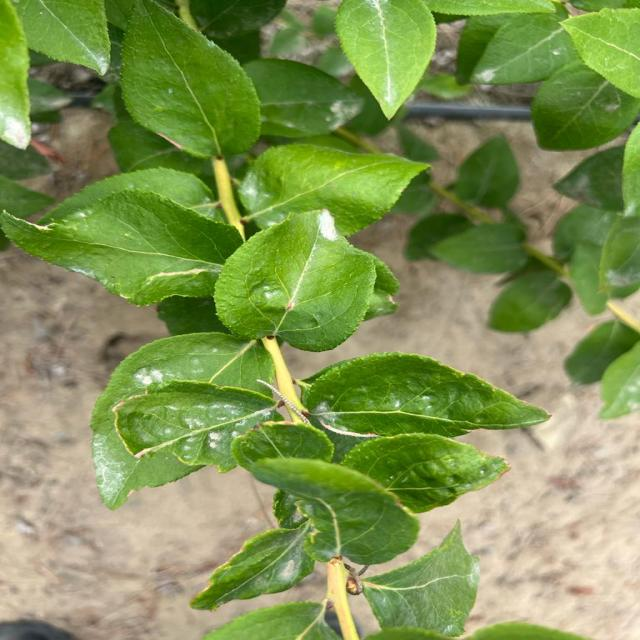Hojas con oidiosis: (88, 331, 278, 512), (0, 188, 248, 308), (212, 208, 376, 353), (296, 350, 552, 442), (235, 142, 433, 242), (110, 379, 289, 474), (332, 0, 436, 121), (186, 520, 319, 612)
